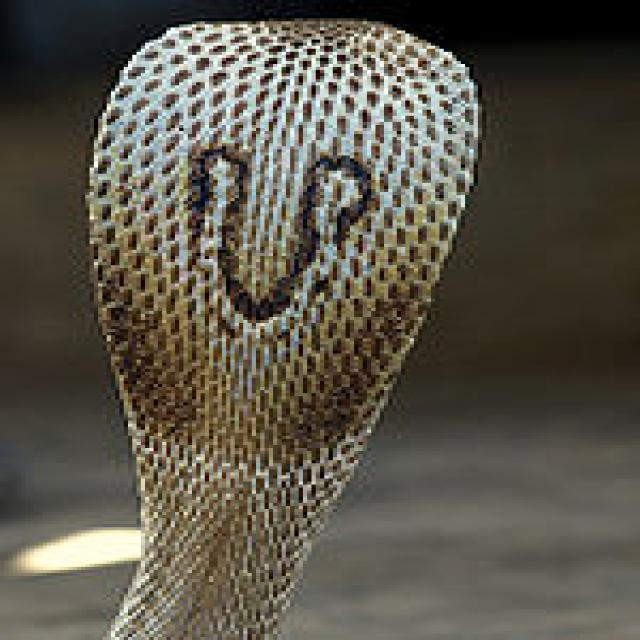Snake: (0, 12, 486, 637)
